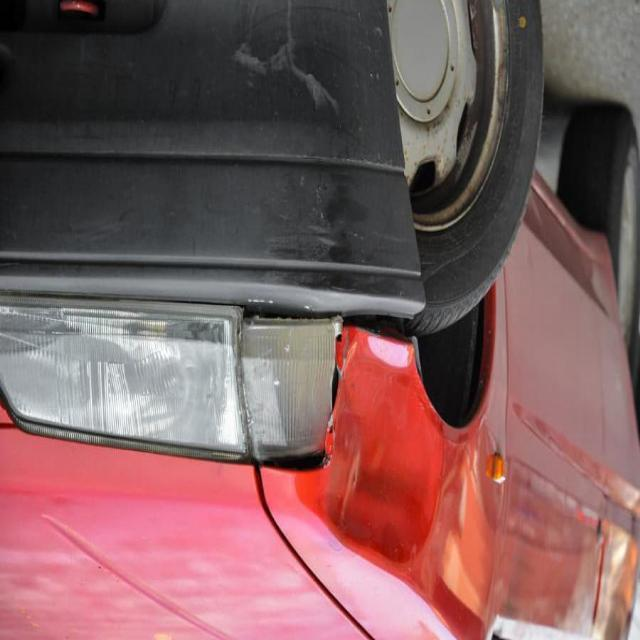dent: (276, 336, 460, 610)
